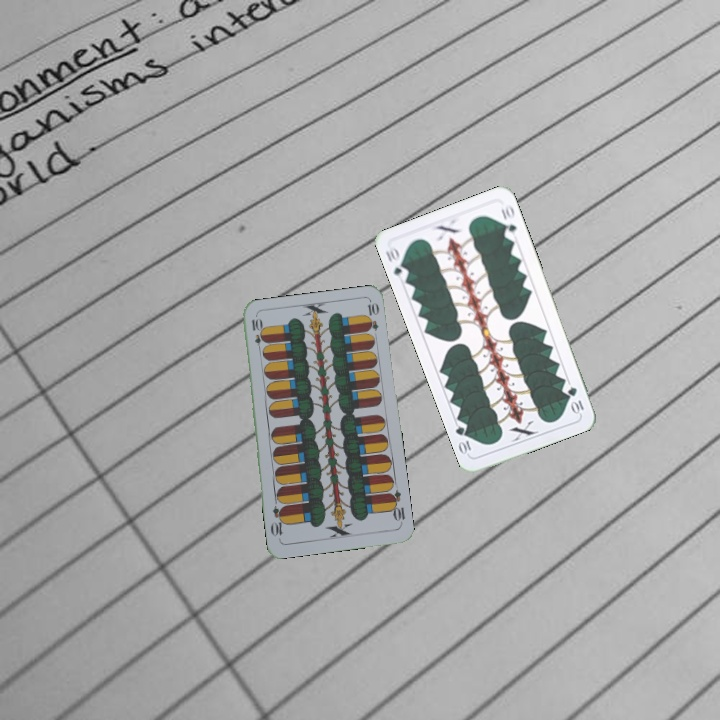E10: (385, 486, 407, 527), (247, 314, 265, 355)
G10: (382, 244, 411, 281), (564, 383, 586, 416)
